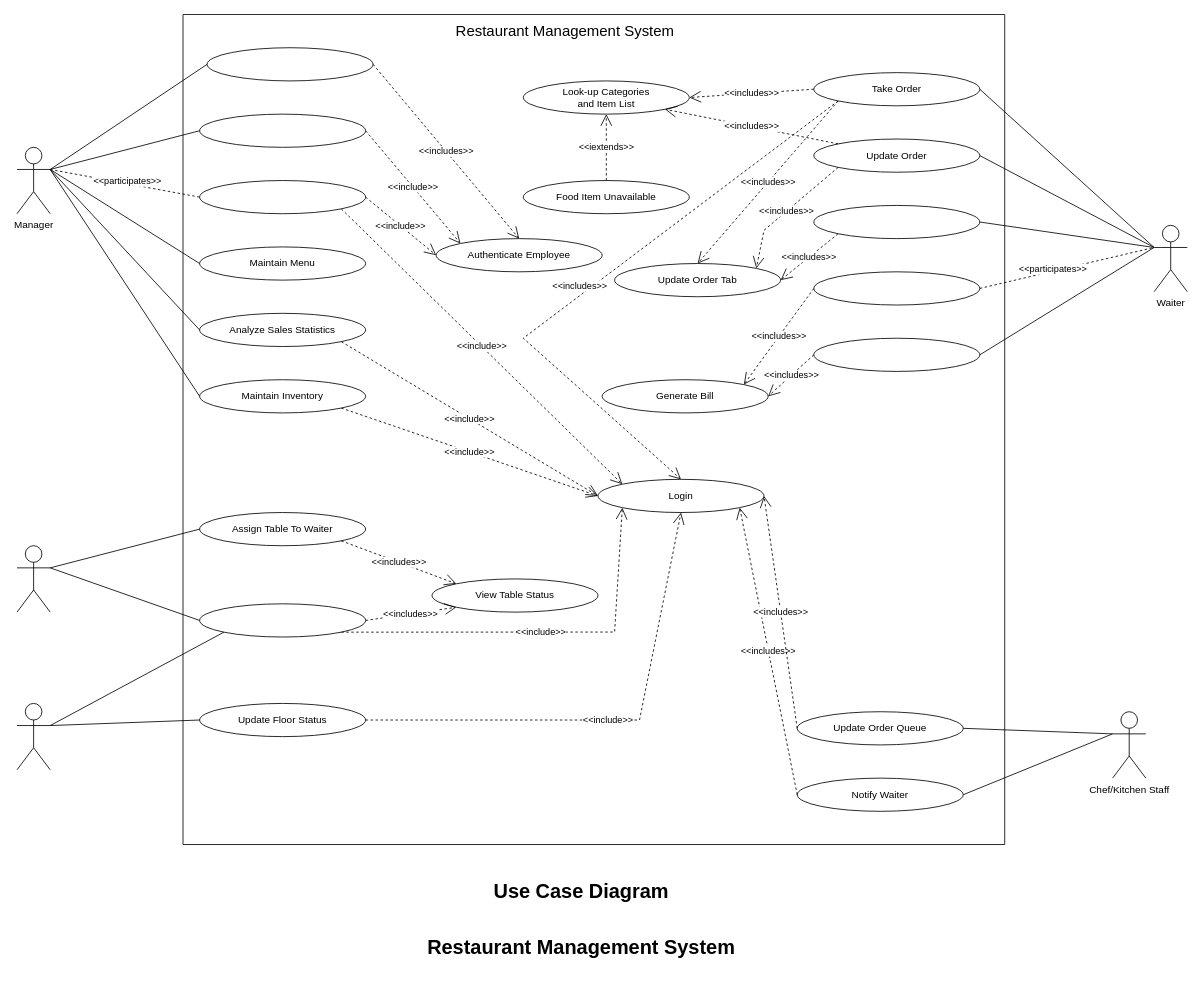
The diagram is 1202 pixels wide and 997 high, and some of its shapes have lost their labels. The shapes that lost their labels are listed below. From the top down, each one's centre as x and y in pixels, then its label:
the point at 289,64: Manage Employee Profiles
the point at 282,130: Track Employee Activities
the point at 282,197: Handle Employee Payroll
the point at 896,222: Cancel Order
the point at 896,288: Process Payment
the point at 896,354: Close Order Tab
the point at 33,578: Host
the point at 282,620: Update Table Status
the point at 33,736: Busboy
